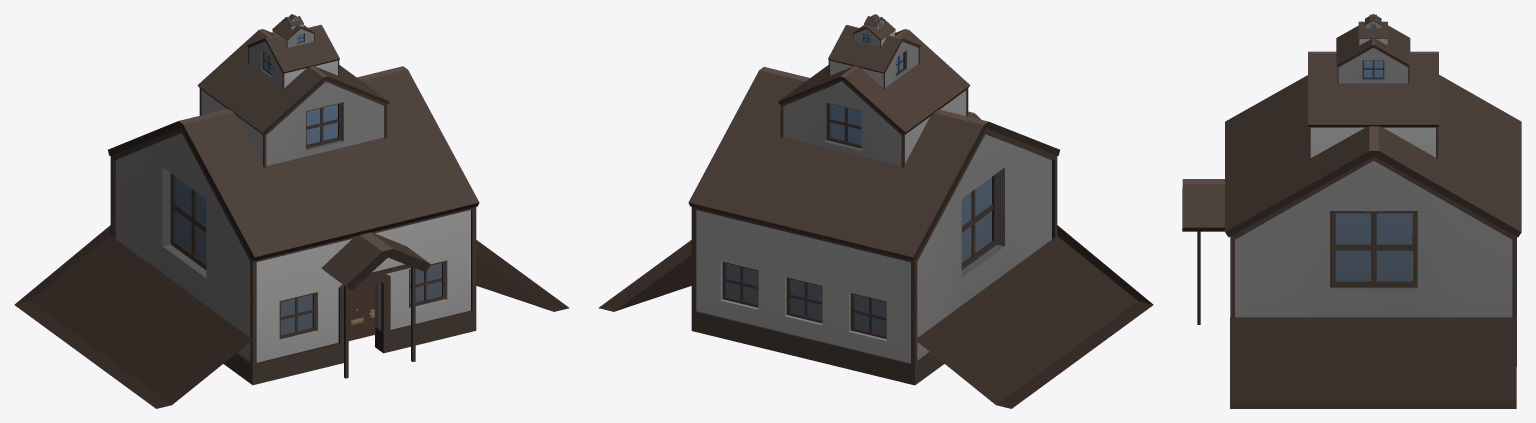
File: buildings-residential-recursivehouse_v1.glb
The picture shows the model from 3 angles, left to right: view 1: azimuth 30°, elevation 25°; view 2: azimuth 150°, elevation 25°; view 3: azimuth 270°, elevation 25°; orthographic projection.
Parts seen in each view (by area): view 1: RecursiveHouse_base, RecursiveHouse_windowRefl; view 2: RecursiveHouse_base, RecursiveHouse_windowRefl; view 3: RecursiveHouse_base, RecursiveHouse_windowRefl.
Part boxes in pixels (box(x1,y1,x2,y2)): RecursiveHouse_base: box(14, 14, 569, 408); RecursiveHouse_windowRefl: box(175, 18, 441, 335); RecursiveHouse_base: box(598, 14, 1153, 408); RecursiveHouse_windowRefl: box(726, 18, 991, 335); RecursiveHouse_base: box(1182, 14, 1521, 408); RecursiveHouse_windowRefl: box(1335, 23, 1412, 281).
Size of the model in its own units: 18.31 by 12.3 by 12.9.
